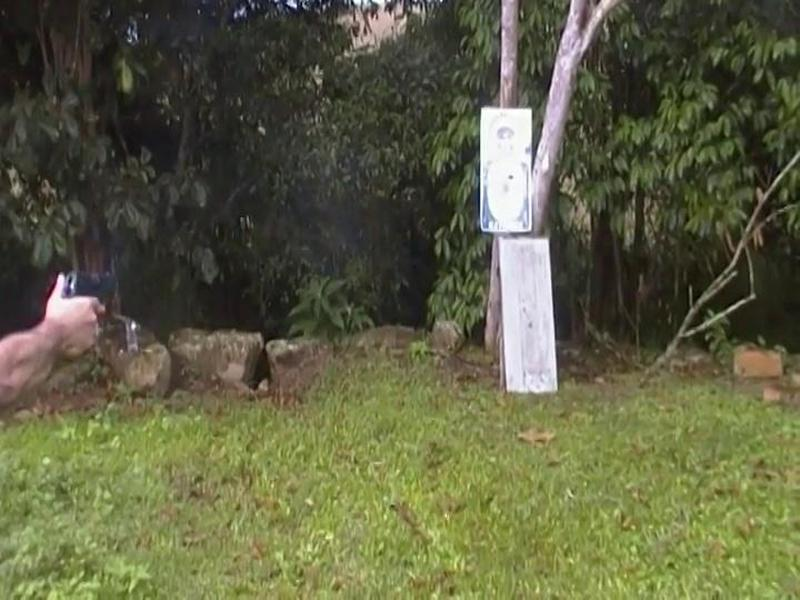Pistola: (40, 254, 138, 325)
